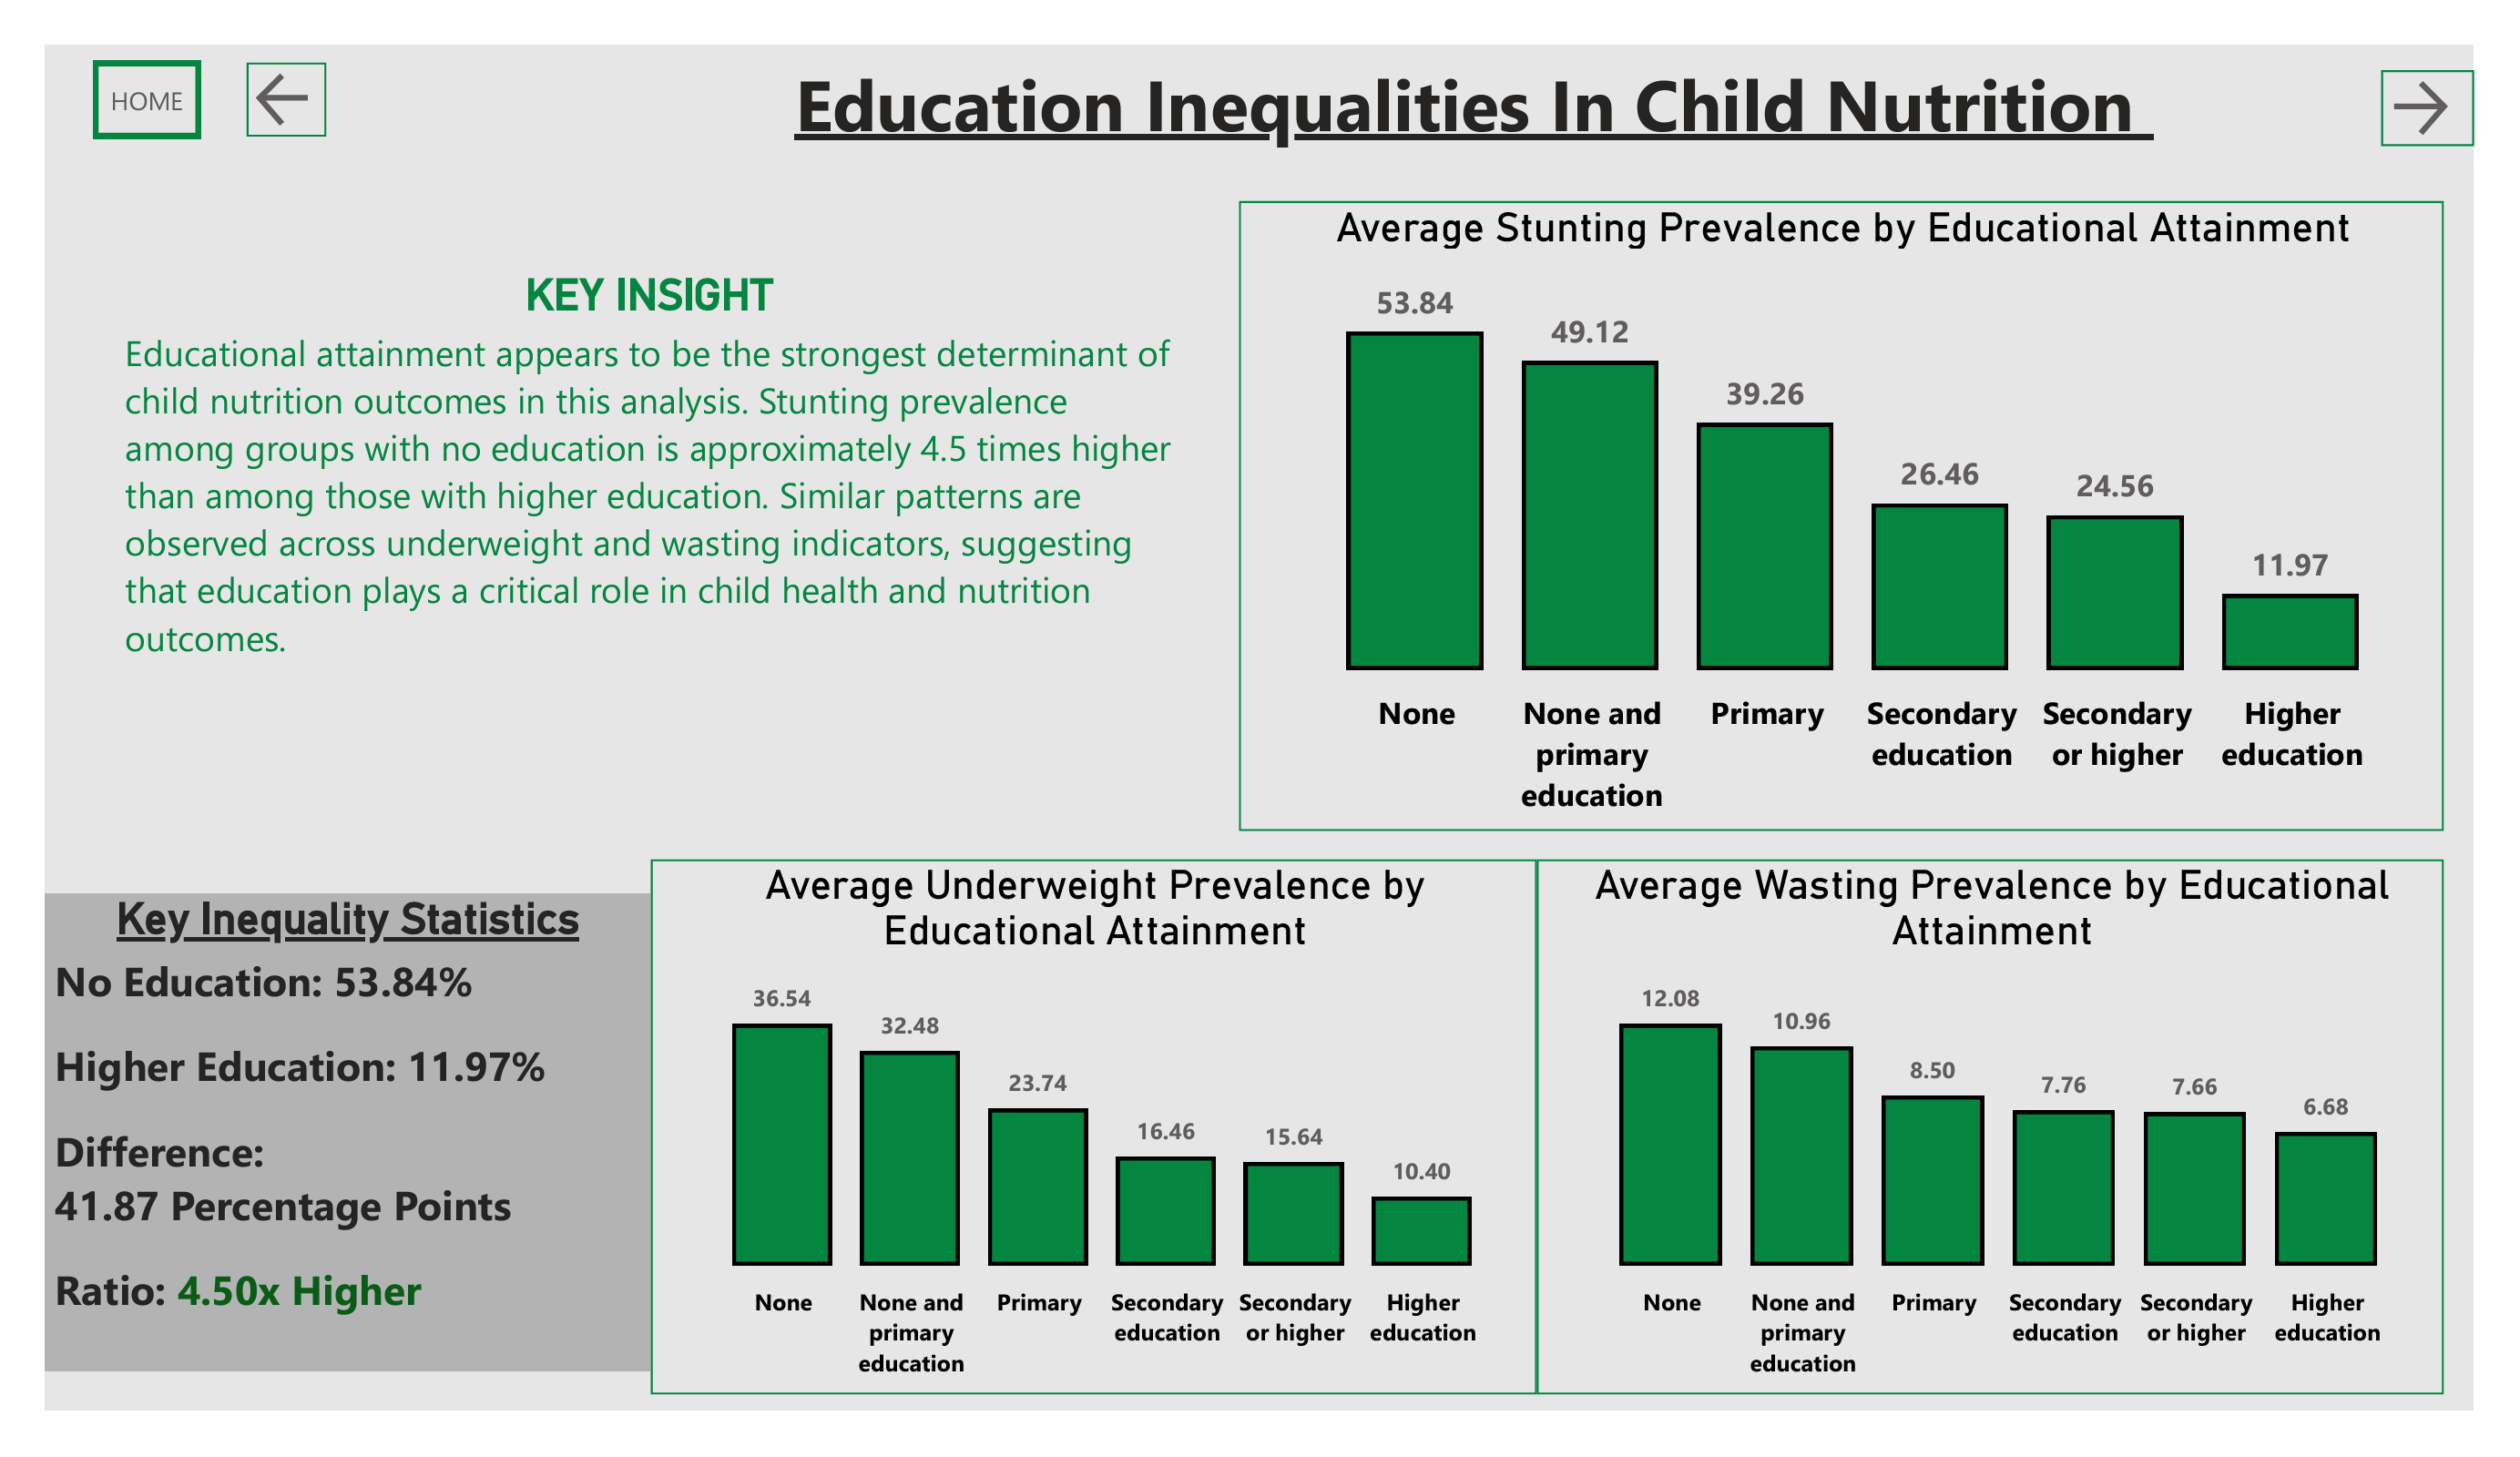

Layout of this report page (visuals, bound fields, positions):
{"tool":"powerbi","page":{"name":"EDUCATION DISPARITY","canvas":[1280,720],"ordinal":2},"visuals":[{"type":"textbox","box":[285.1,0,936,66.1],"z":0},{"type":"actionButton","box":[1231.3,13.2,48.5,39.7],"z":1000},{"type":"actionButton","box":[105.8,8.8,42.6,39.7],"z":2000},{"type":"textbox","title":"KEY INSIGHT ","box":[37,117.6,562.7,241.9],"z":3000},{"type":"textbox","title":"Key Inequality Statistics","box":[0,446.6,319,252.8],"z":4000},{"type":"clusteredColumnChart","title":"Average Stunting Prevalence by Educational Attainment","fields":{"Category":["nutritional_inequality.CATEGORY"],"Y":["Measures_Table.Avg Stunting"]},"box":[628.9,82.3,634.8,332.1],"z":5000},{"type":"clusteredColumnChart","title":"Average Wasting Prevalence by Educational Attainment","fields":{"Category":["nutritional_inequality.CATEGORY"],"Y":["Measures_Table.Avg Wasting"]},"box":[786.1,429.1,477.6,282.1],"z":6000},{"type":"clusteredColumnChart","title":"Average Underweight Prevalence by Educational Attainment","fields":{"Category":["nutritional_inequality.CATEGORY"],"Y":["Measures_Table.Avg Underweight"]},"box":[318.9,429.1,467.3,282.1],"z":7000},{"type":"actionButton","box":[25,8.3,57,40.3],"z":8000}]}

Visuals, with their boxes on the page's 1280x720 design canvas (x1, y1, x2, y2). These are canvas units, not pixel positions in the 2520x1457 screenshot, which may show the page scaled, cropped or inside an application window:
textbox: (x1=285, y1=0, x2=1221, y2=66)
actionButton: (x1=1231, y1=13, x2=1280, y2=53)
actionButton: (x1=106, y1=9, x2=148, y2=48)
"KEY INSIGHT " textbox: (x1=37, y1=118, x2=600, y2=360)
"Key Inequality Statistics" textbox: (x1=0, y1=447, x2=319, y2=699)
"Average Stunting Prevalence by Educational Attainment" clusteredColumnChart: (x1=629, y1=82, x2=1264, y2=414)
"Average Wasting Prevalence by Educational Attainment" clusteredColumnChart: (x1=786, y1=429, x2=1264, y2=711)
"Average Underweight Prevalence by Educational Attainment" clusteredColumnChart: (x1=319, y1=429, x2=786, y2=711)
actionButton: (x1=25, y1=8, x2=82, y2=49)
